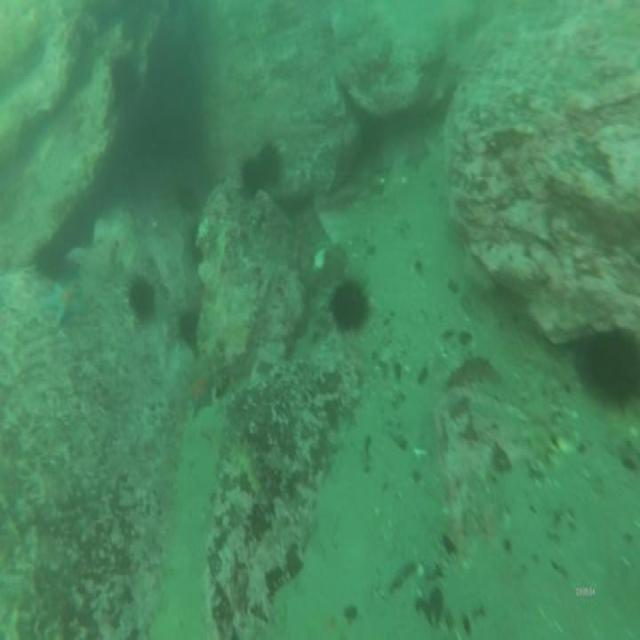echinus: (571, 322, 640, 412), (329, 270, 372, 338), (125, 270, 158, 327), (238, 153, 262, 199), (258, 142, 284, 184), (176, 302, 200, 346)
holothurian: (230, 435, 262, 496)
starfish: (45, 277, 88, 330), (186, 370, 217, 419), (403, 126, 431, 174)
